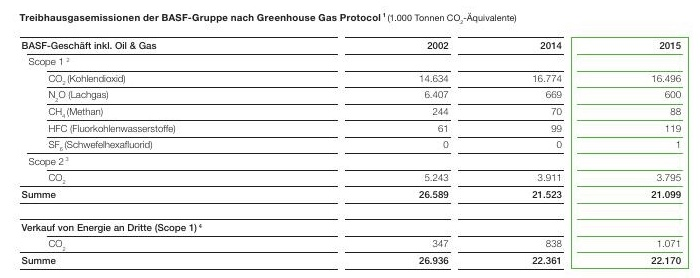table: (0, 0, 700, 278)
